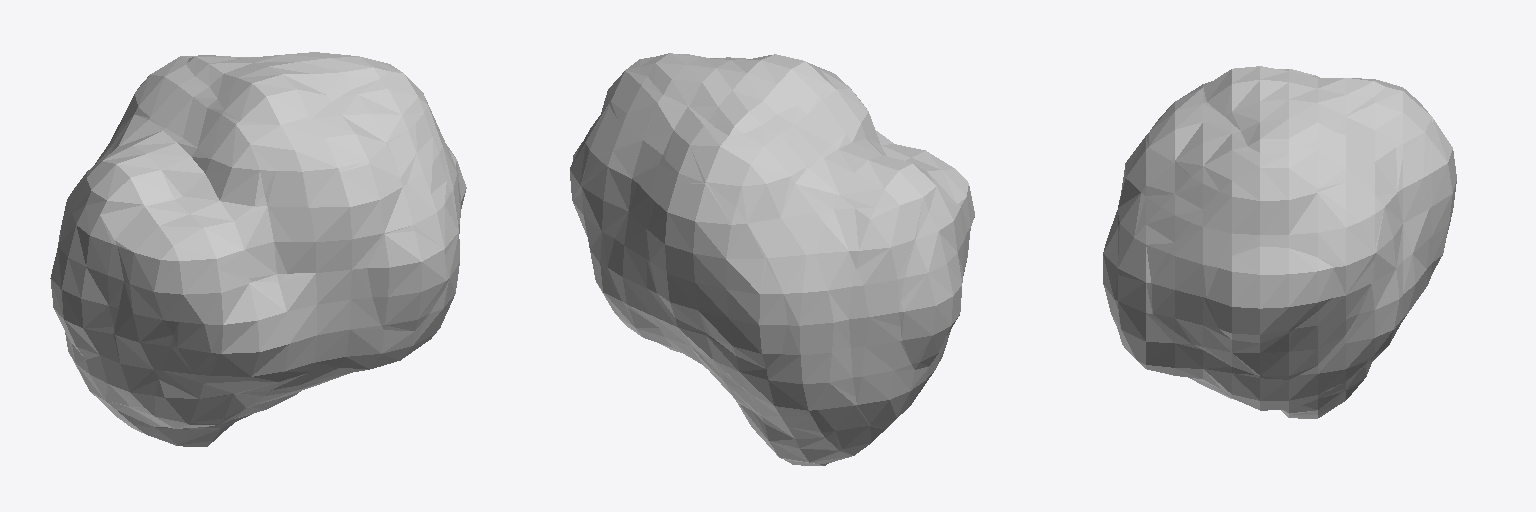
The model's file is 1nrw_cms.obj.
The picture shows the model from 3 angles: view 1: azimuth 30°, elevation 25°; view 2: azimuth 150°, elevation 25°; view 3: azimuth 270°, elevation 25°; orthographic projection.
Size of the model in its own units: 65.98 by 61.27 by 53.26.